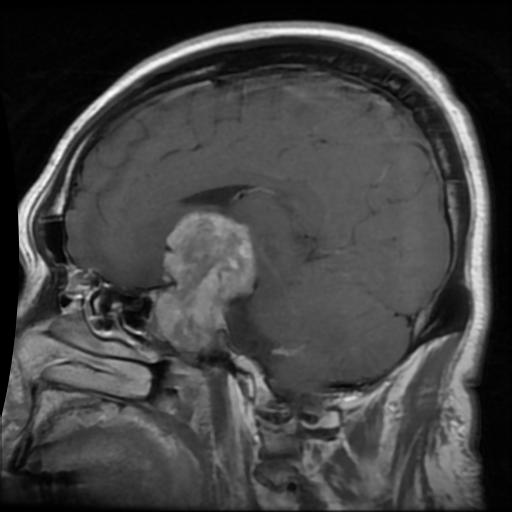Pituirity_tumour: (149, 213, 256, 351)
